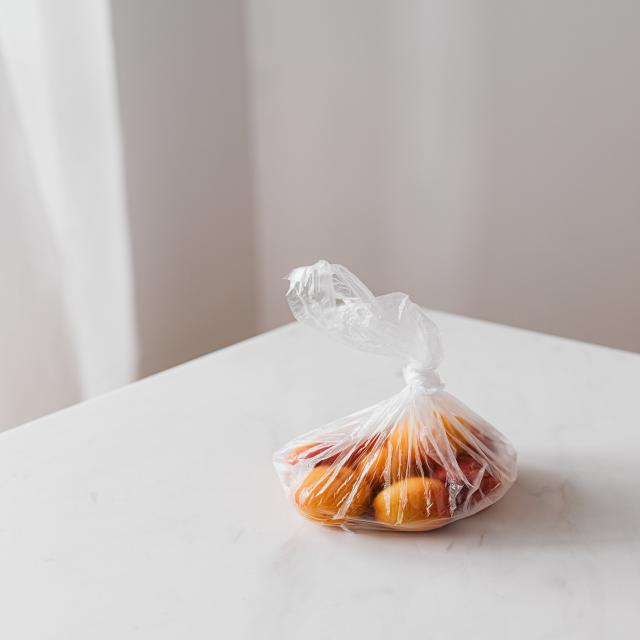plastic: (332, 298, 432, 348)
